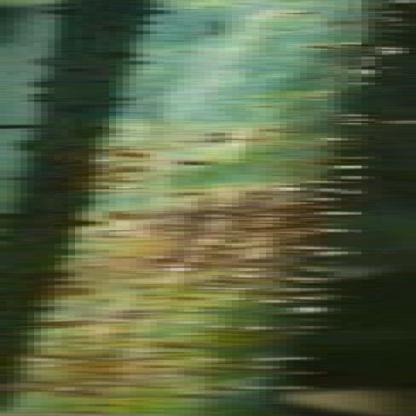wheat Stem Rust: (52, 125, 415, 415)
